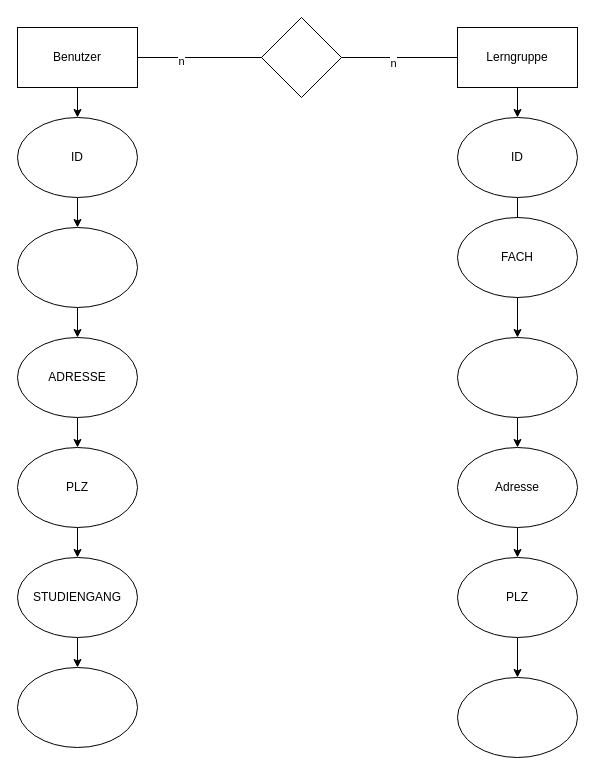
Some shapes in this 607 by 775 pixel diagram are drawn without their labels. Each missing label, with the centre of its shape:
"FACHSEMESTER" belongs at (77,707).
"ist in / hat" belongs at (301,57).
"NAME" belongs at (77,267).
"RAUM" belongs at (517,377).
"UNTERRICHTSMATERIAL" belongs at (517,717).
